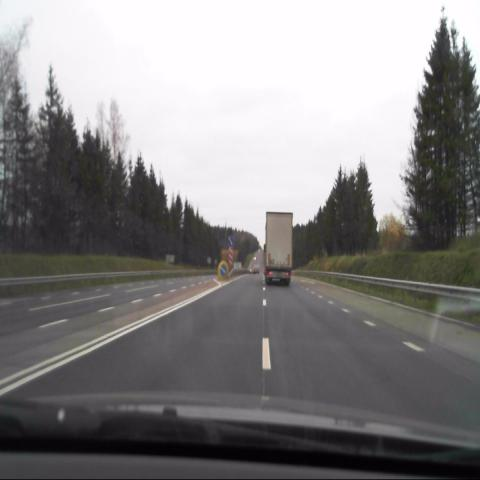4_2_1: (218, 261, 228, 279), (226, 234, 235, 248)
